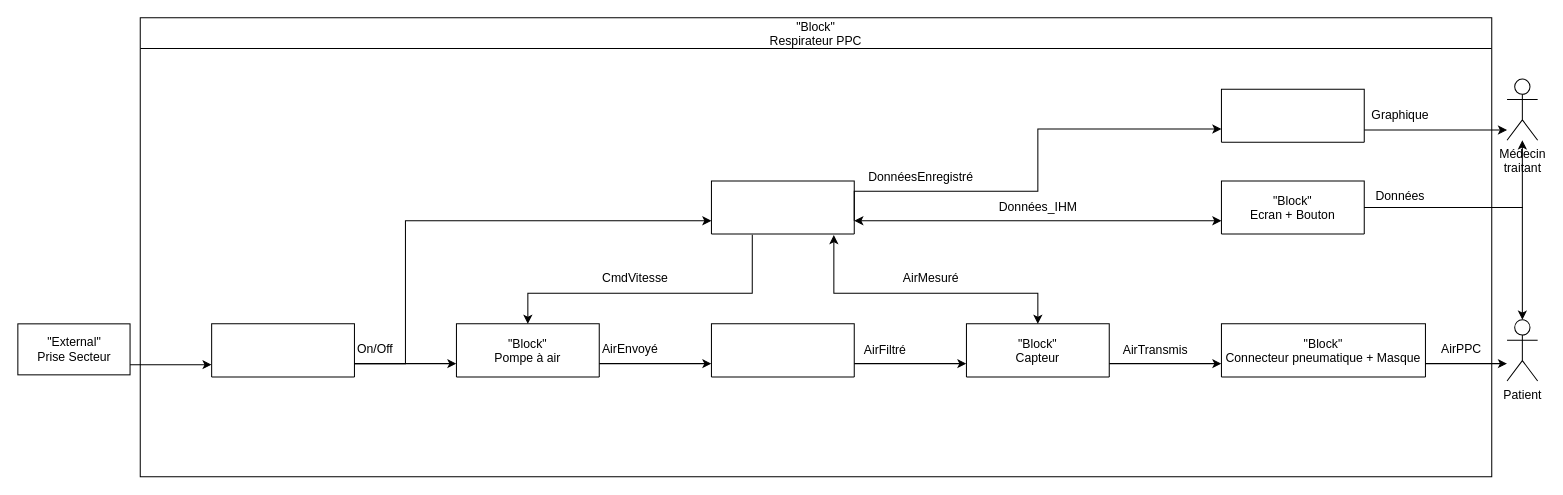
Image size: 1563x495. Some labels were removed from this diagram. Each missing label, with the box of its shape:
"Block" Alimentation + Bouton: (211, 323, 354, 377)
"Block" Filtre: (710, 323, 854, 377)
"Block" Microprocesseur: (710, 180, 854, 234)
"Block" Périphérique de stockage: (1220, 88, 1364, 142)
